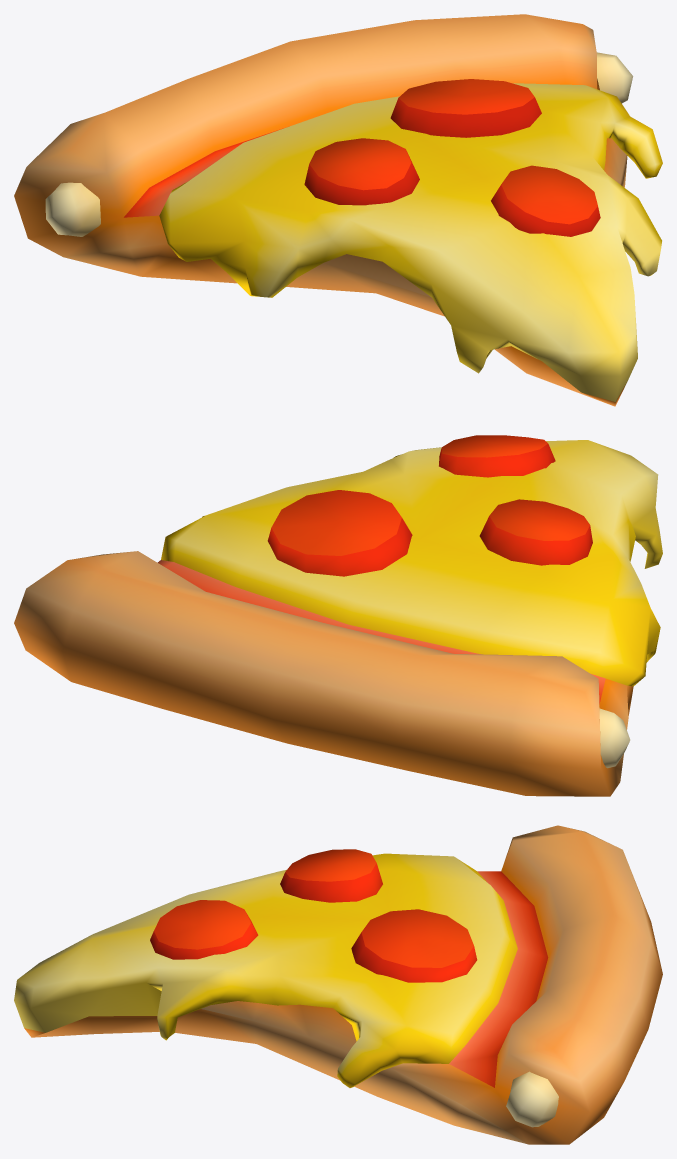
Rendered from pizzaSlice.fbx.
3 renders of one model, top to bottom at view 1: azimuth 30°, elevation 25°; view 2: azimuth 150°, elevation 25°; view 3: azimuth 270°, elevation 25°, orthographic. The views are drawn at different scales.
Parts seen in each view (by area): view 1: pizzaSlice; view 2: pizzaSlice; view 3: pizzaSlice.
Boxes of the visible parts, <box> form: pizzaSlice: <box>14,14,662,406</box>; pizzaSlice: <box>14,435,662,796</box>; pizzaSlice: <box>14,825,662,1144</box>.
Bounding box in the file's own units: 16.07 × 3.95 × 17.11.
